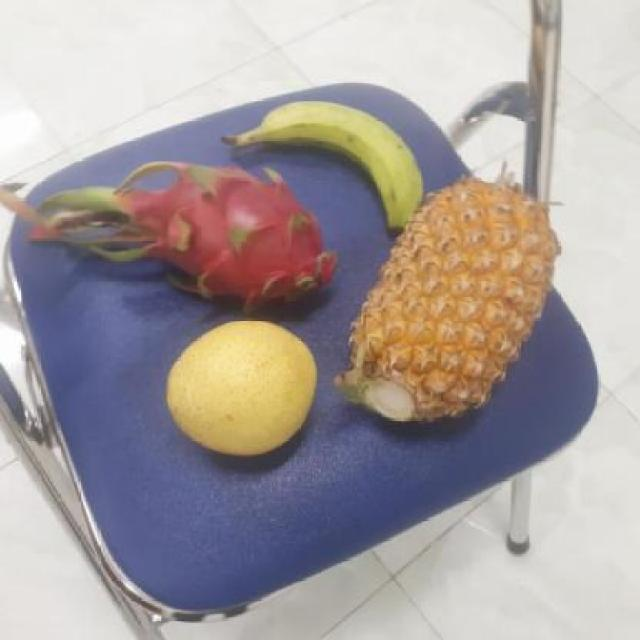banana: (251, 101, 426, 235)
dragon fruit: (124, 165, 342, 317)
pear: (163, 321, 323, 458)
pineapple: (343, 185, 562, 425)
